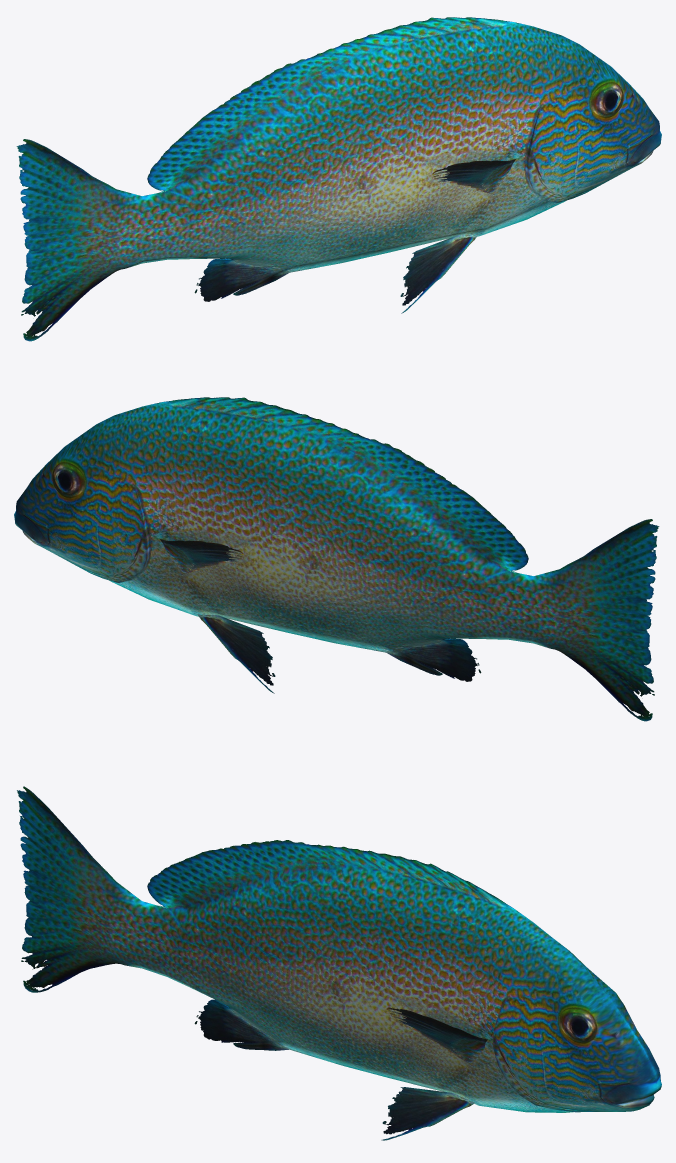
File: SK_Sweetlips.fbx
3 views of the same model, one above another, from view 1: azimuth 30°, elevation 25°; view 2: azimuth 150°, elevation 25°; view 3: azimuth 330°, elevation 25° (orthographic).
Visible parts, largest first — view 1: SK_Sweetlips; view 2: SK_Sweetlips; view 3: SK_Sweetlips.
Part boxes in pixels (bbox=[...]): SK_Sweetlips: bbox=[16, 17, 661, 341]; SK_Sweetlips: bbox=[14, 397, 659, 721]; SK_Sweetlips: bbox=[17, 786, 661, 1140].
Bounding box in the file's own units: 94.31 × 40.84 × 12.68.
